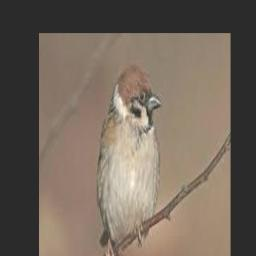Sparrow: (97, 64, 162, 256)
